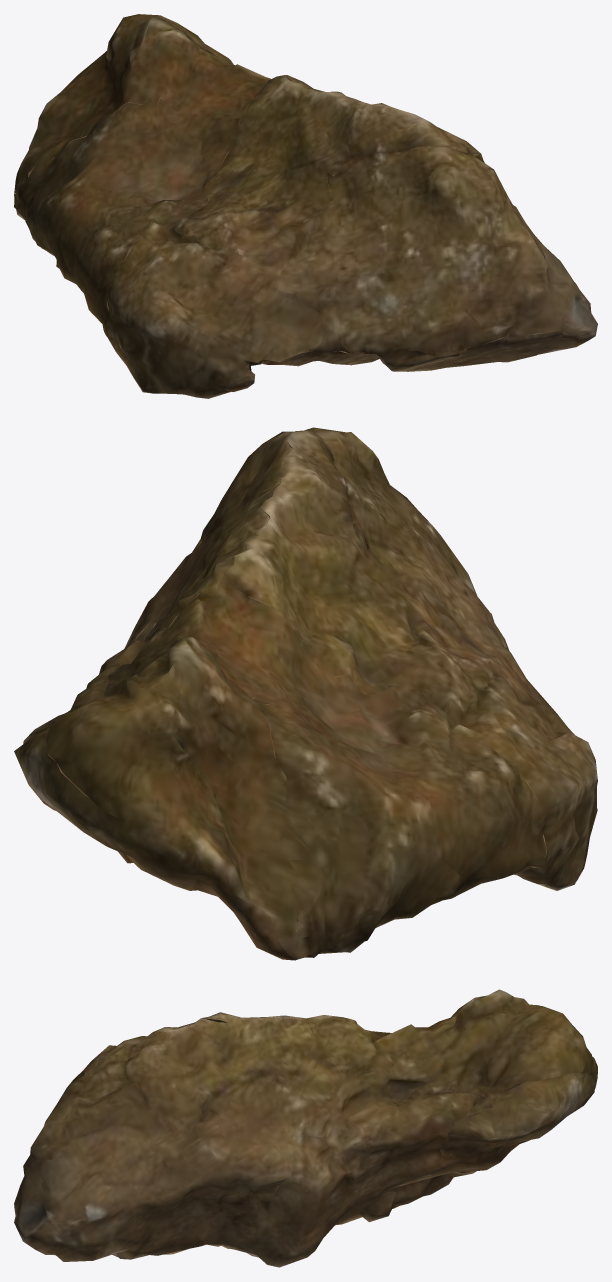
3 renders of one model, top to bottom at view 1: azimuth 30°, elevation 25°; view 2: azimuth 150°, elevation 25°; view 3: azimuth 270°, elevation 25°, orthographic. The views are drawn at different scales.
Parts seen in each view (by area): view 1: rock_moss_set_01_rock01; view 2: rock_moss_set_01_rock01; view 3: rock_moss_set_01_rock01.
Part boxes in pixels (bbox=[...]): rock_moss_set_01_rock01: bbox=[14, 14, 597, 398]; rock_moss_set_01_rock01: bbox=[14, 427, 597, 960]; rock_moss_set_01_rock01: bbox=[14, 989, 597, 1267].
Bounding box in the file's own units: 2.24 × 1.47 × 3.37.
1 material, 1 textured.
